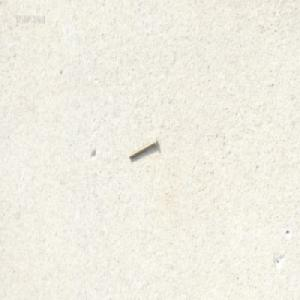Bolt: (128, 136, 157, 158)
